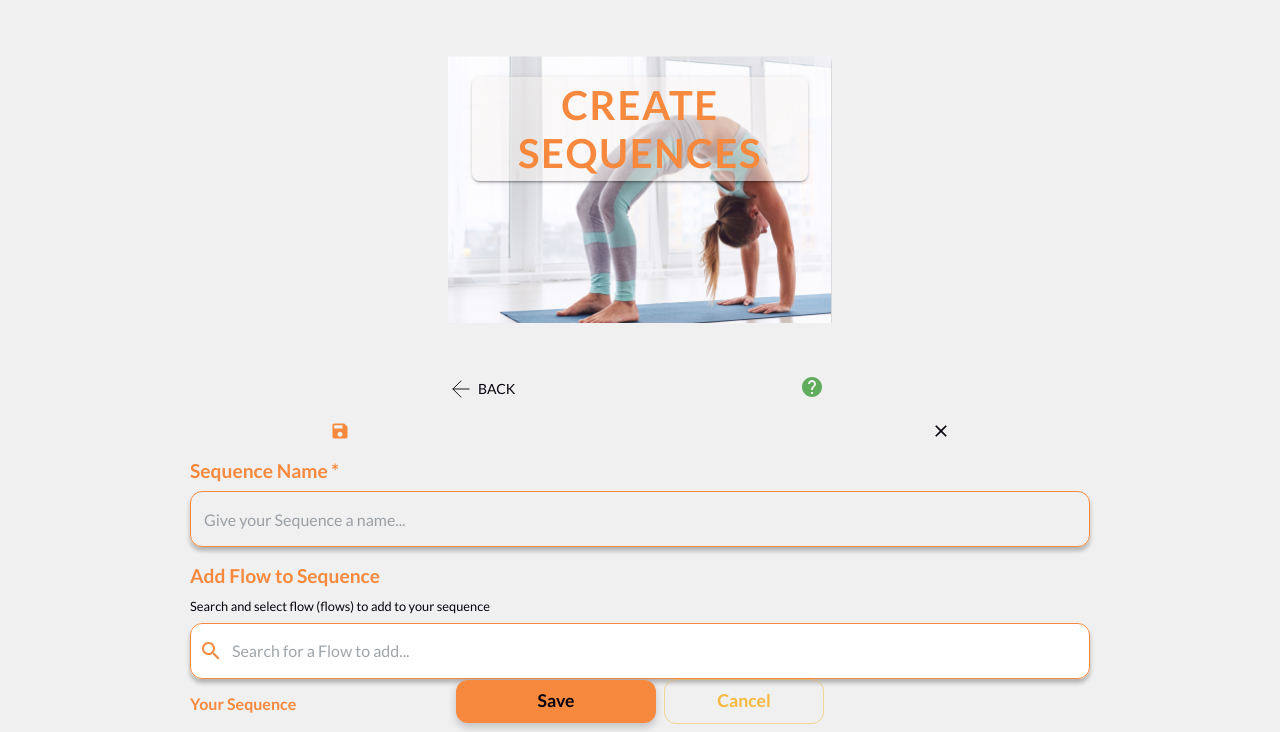
Test: CreateSequence Series Grouping › filters grouped series based on search input
# First click to focus and ensure dropdown opens
In the dropdown with placeholder "Search for a Flow to add...": (639, 651) top-left (227, 632), bottom-right (1051, 670), type "Personal"
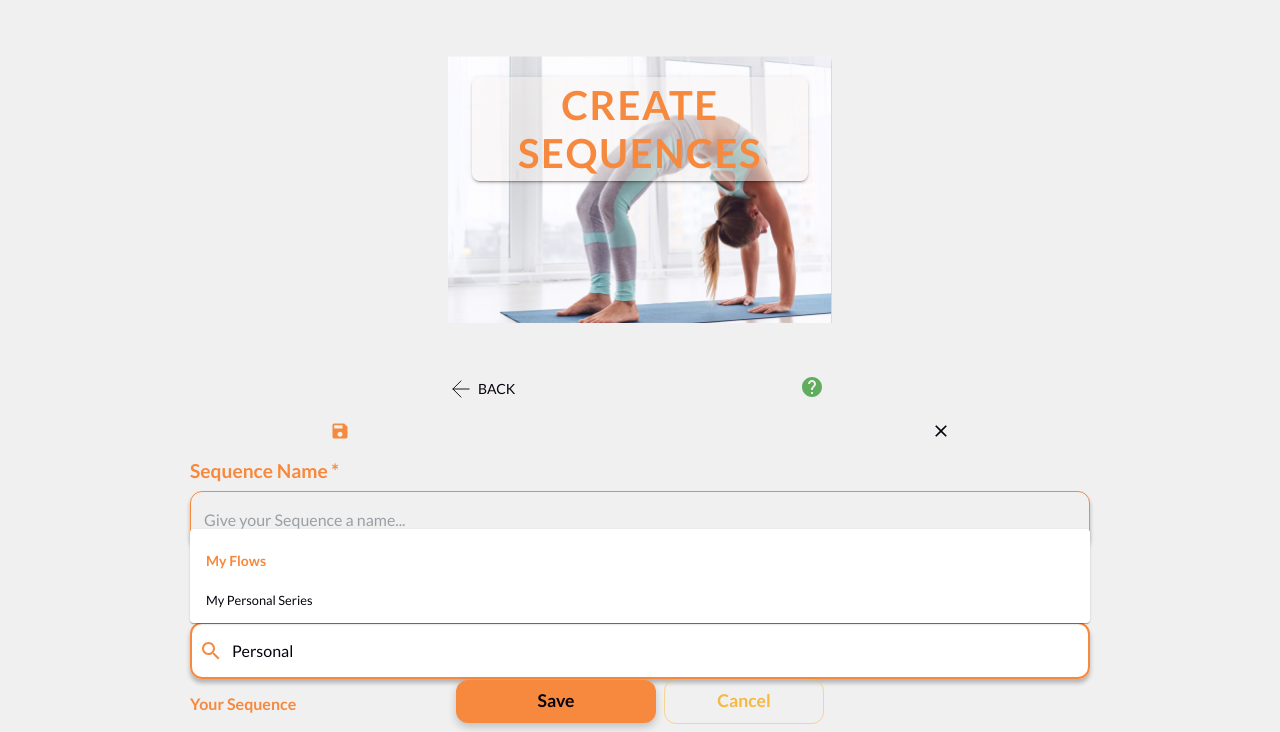
Check: the text "My Personal Series" is shown, box top-left (206, 591), bottom-right (312, 609)
Check: the option "Alpha User Series" is gone
